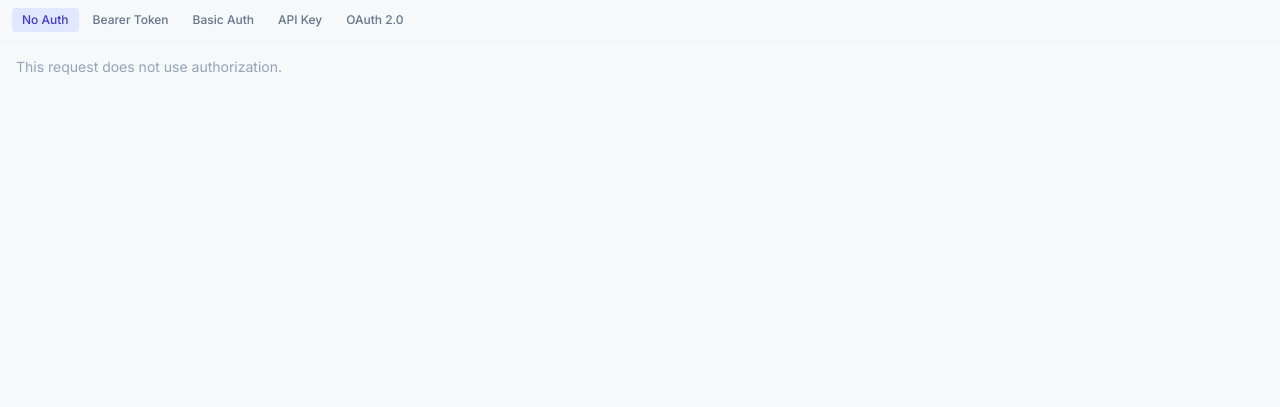
Test: AuthTab › disables 'Get New Access Token' until tokenUrl/clientId/clientSecret are all filled
Click the button "OAuth 2.0": [375, 20] box [336,8,414,32]
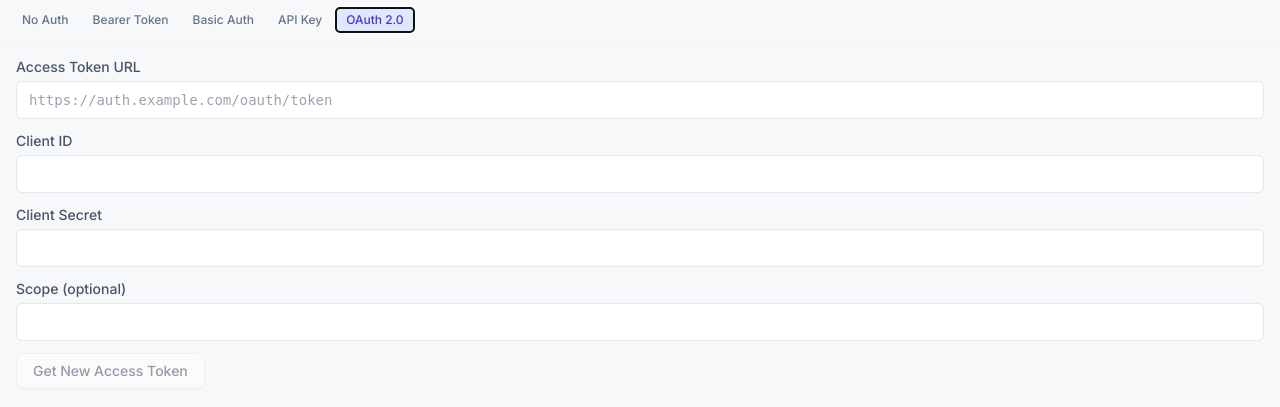
Now the button "Get New Access Token" is disabled, box [16,353,205,389]
In the field with placeholder "https://auth.example.com/oauth/token": [640, 100] box [16,81,1264,119], type "https://auth.example.com/token"
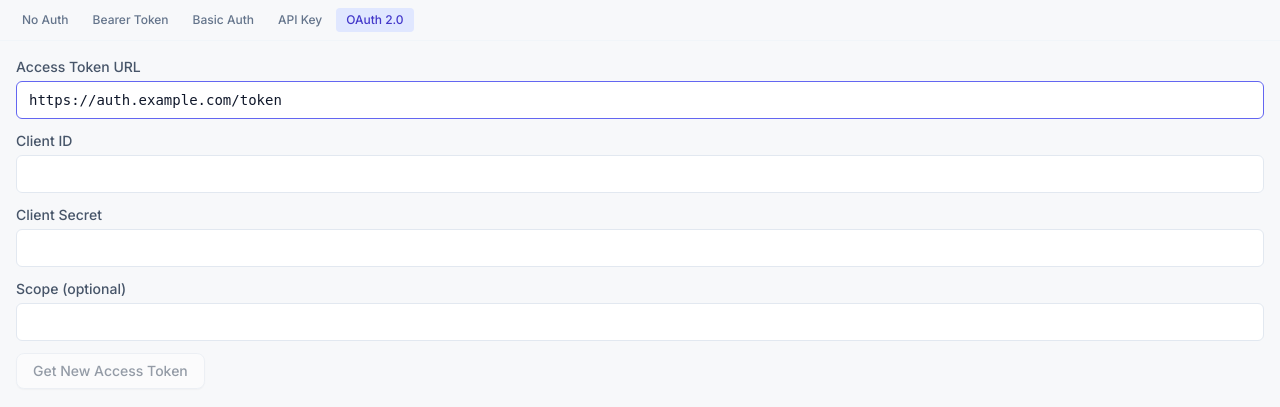
In the field labelled "Client ID": [640, 174] box [16,155,1264,193], type "client-1"
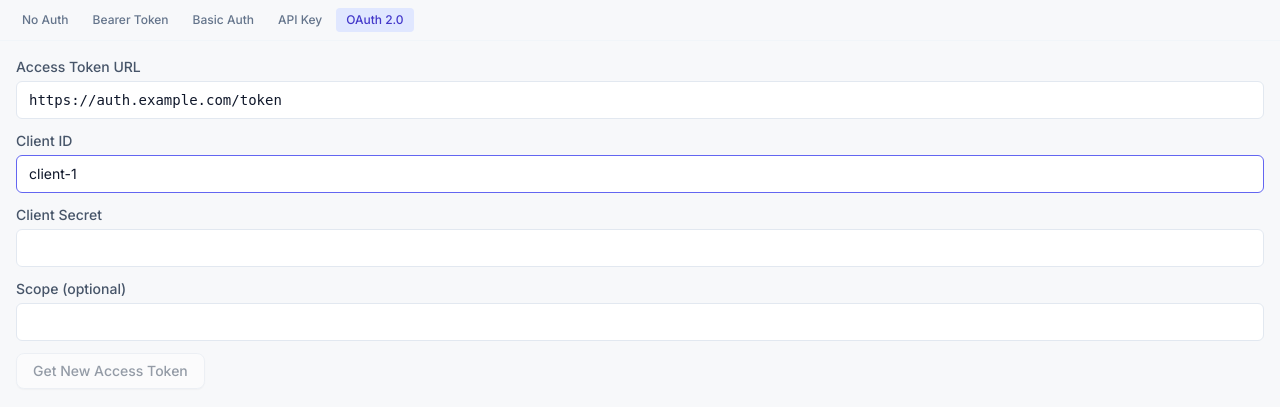
In the password field labelled "Client Secret": [640, 248] box [16,229,1264,267], type "secret-1"
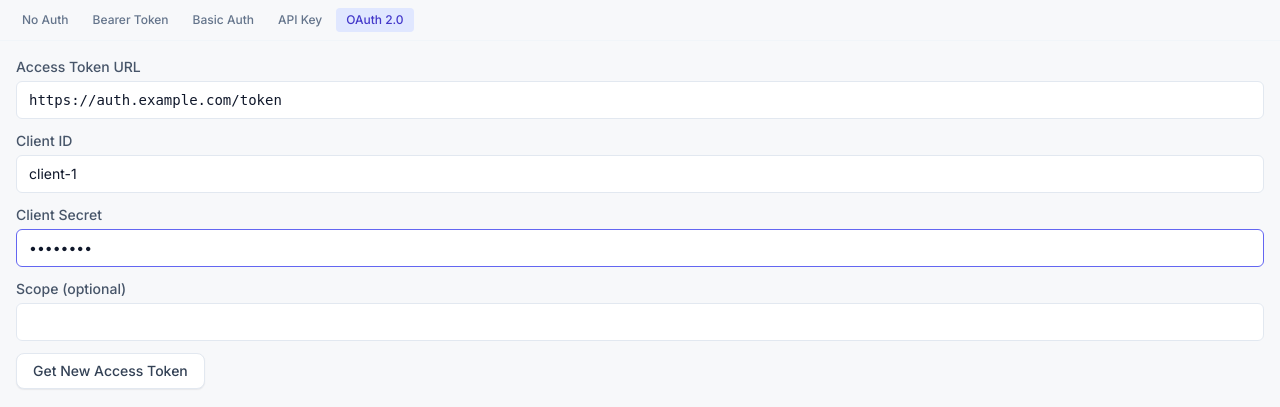
Now the button "Get New Access Token" is enabled, box [16,353,205,389]
